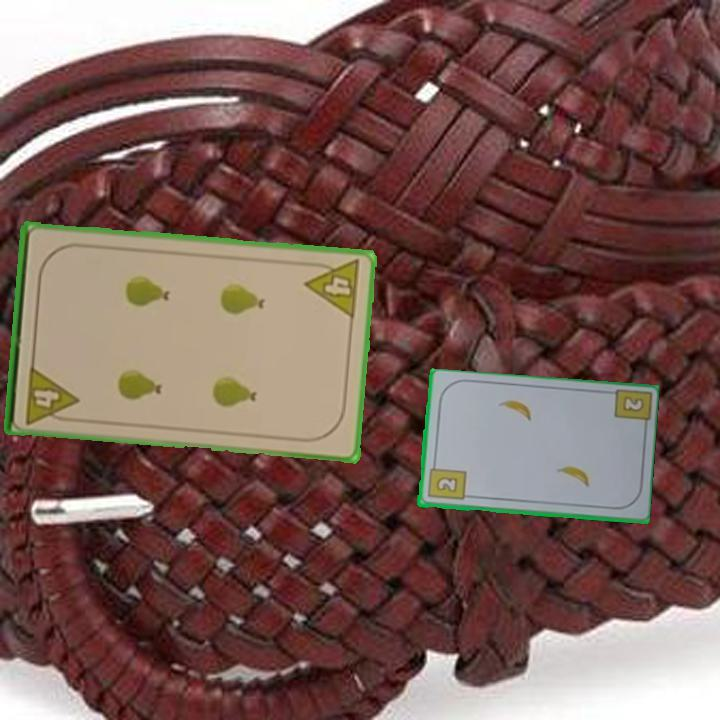2b: (424, 459, 468, 504), (619, 393, 647, 415)
4p: (302, 256, 364, 322), (21, 362, 81, 427)
